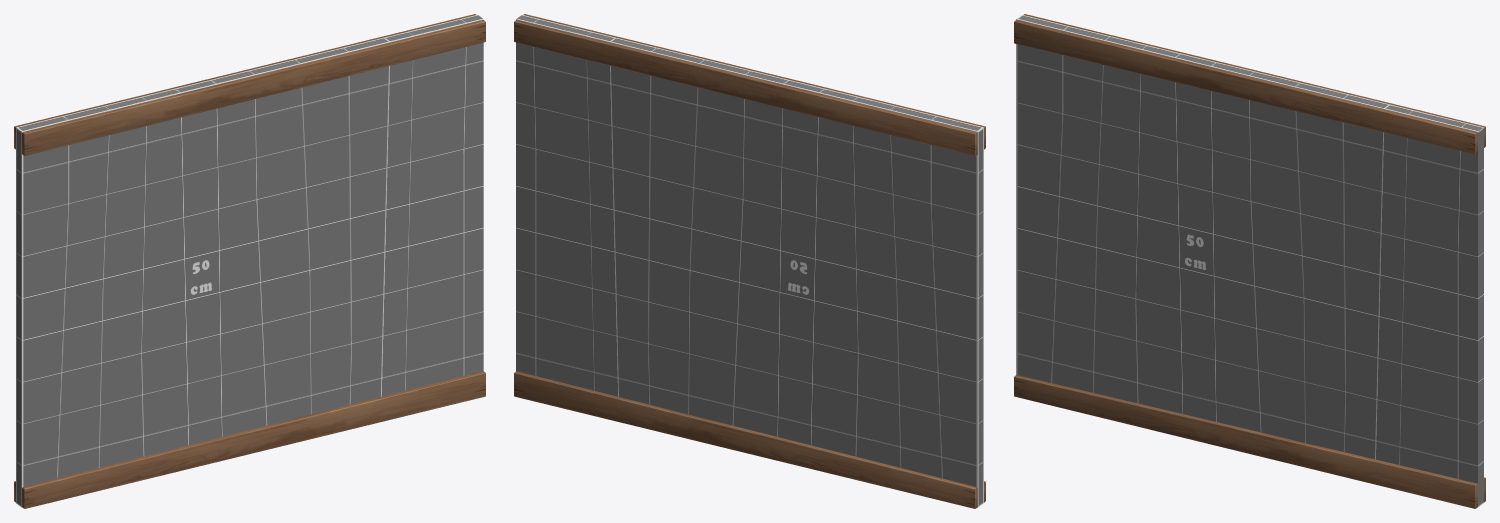
The model's file is Hangar01W_3.FBX.
3 renders of one model, left to right at view 1: azimuth 30°, elevation 25°; view 2: azimuth 150°, elevation 25°; view 3: azimuth 330°, elevation 25°, orthographic.
Visible parts, largest first — view 1: Hangar01W_3; view 2: Hangar01W_3; view 3: Hangar01W_3.
Boxes of the visible parts, bbox=[...] form: Hangar01W_3: bbox=[14, 14, 485, 508]; Hangar01W_3: bbox=[514, 14, 985, 508]; Hangar01W_3: bbox=[1014, 14, 1485, 508].
Size of what is drawn, in the model's own units: 4.5 by 3.5 by 0.1792.
